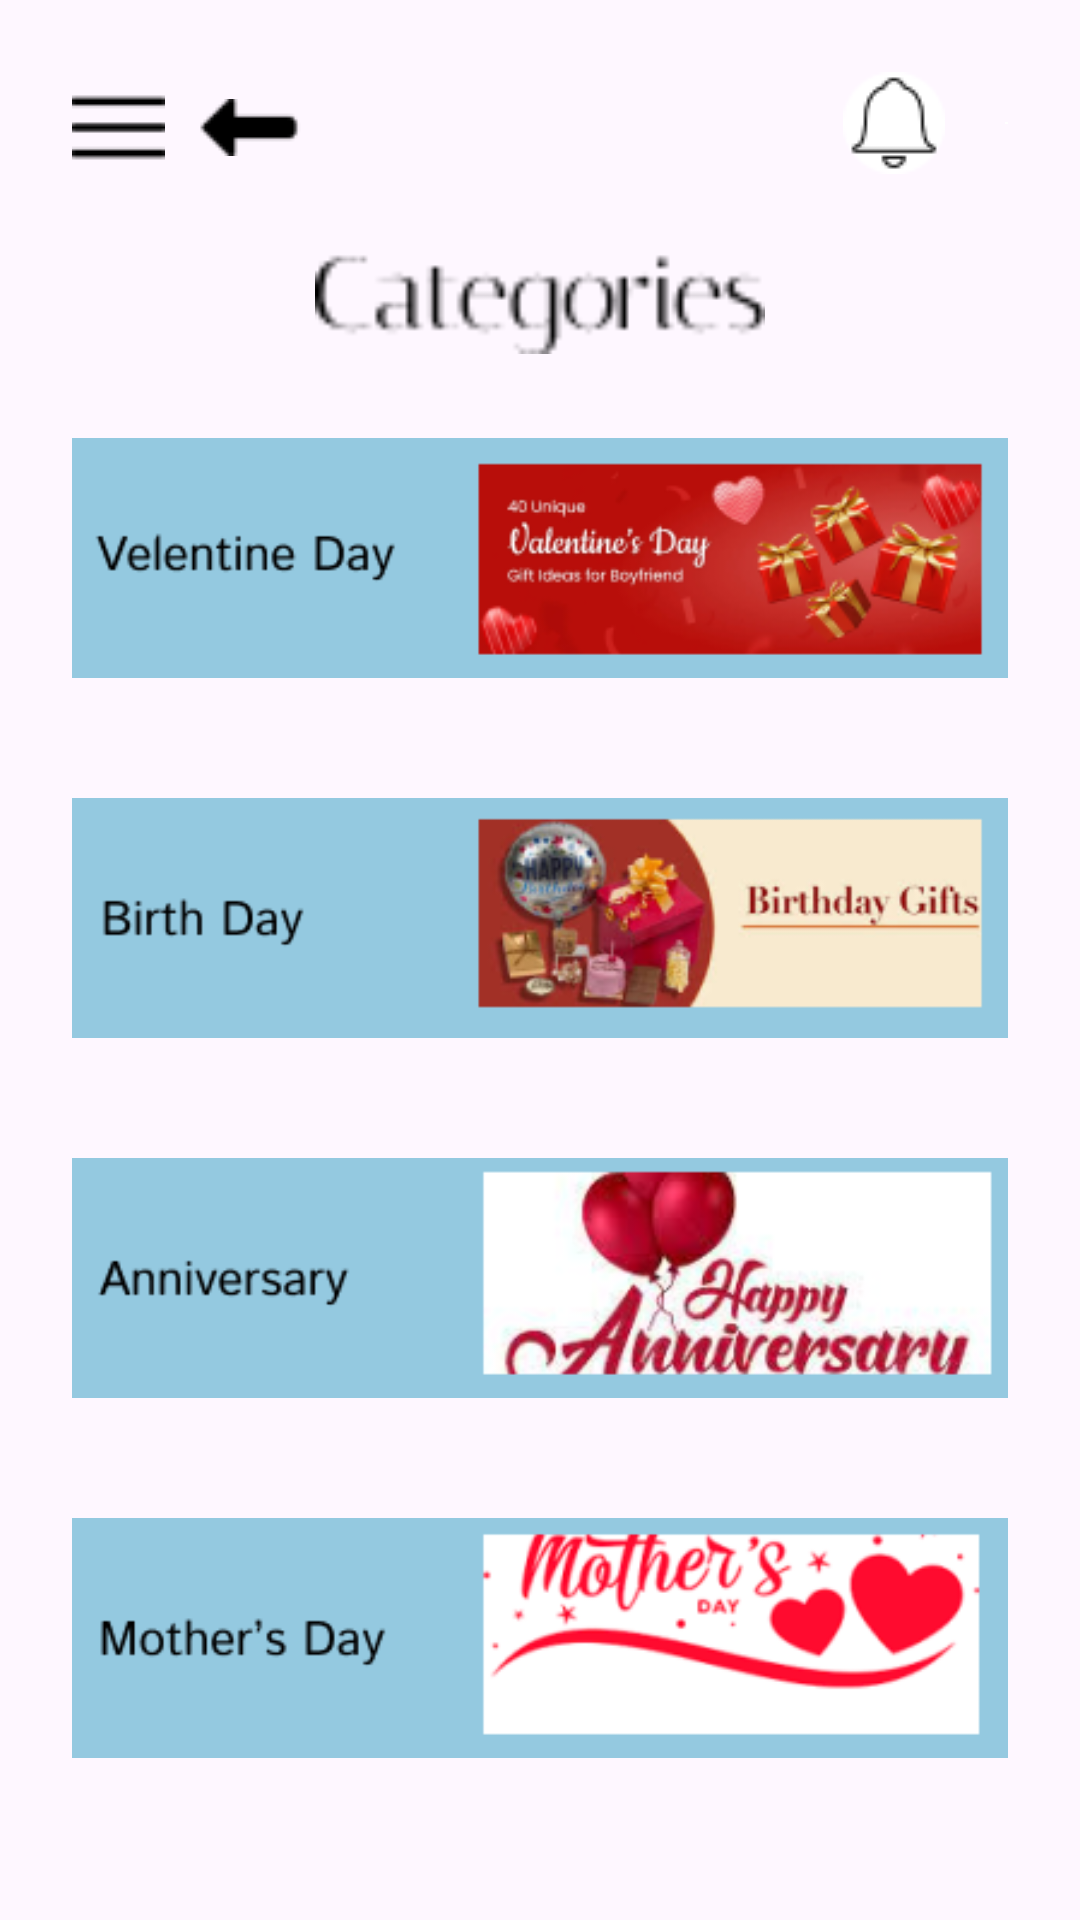

Named icons in this screenshot (1080px x 1920px) and their centers, point (x, y):
arow: point (249, 127)
bel: point (894, 123)
menu: point (118, 127)
